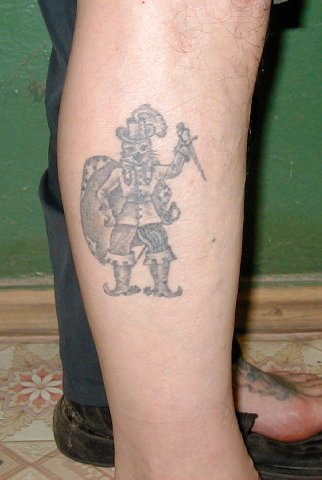tatu8_kot: (86, 105, 208, 304)
